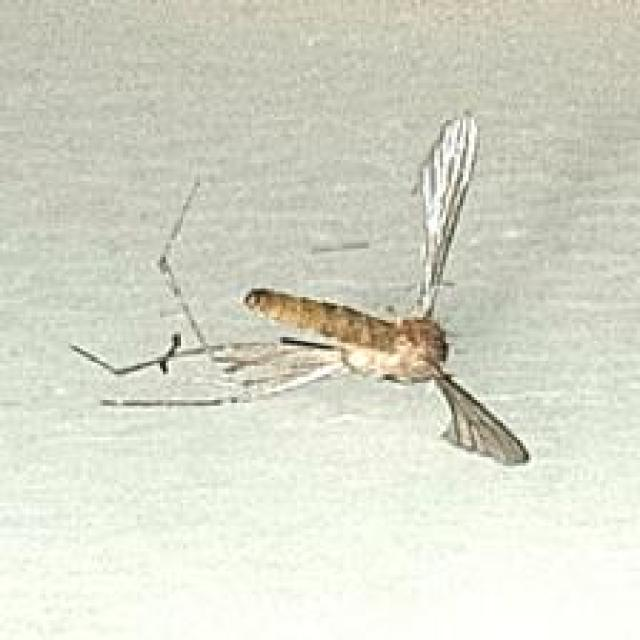Culex: (69, 110, 532, 467)
